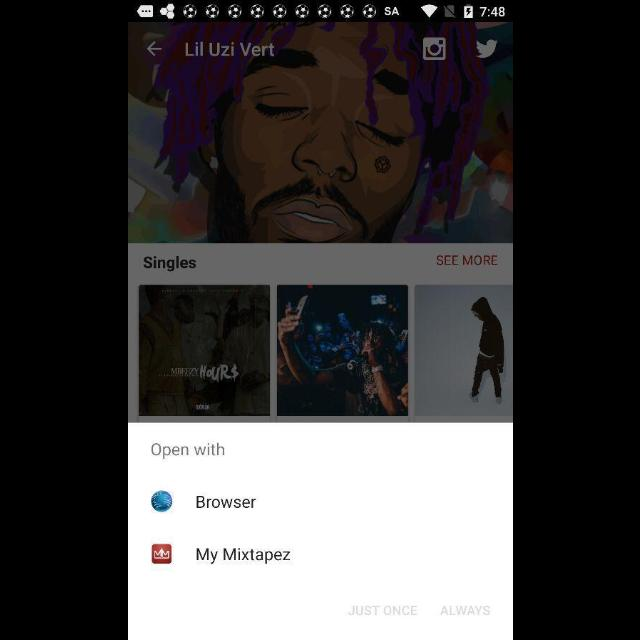icon: (475, 40, 497, 60), (147, 42, 161, 56)
image: (128, 24, 512, 244), (138, 286, 270, 416), (276, 286, 408, 416), (413, 286, 512, 416), (422, 38, 444, 62), (151, 491, 173, 513), (151, 544, 171, 564)
panel: (128, 424, 512, 640)
text: (196, 548, 290, 564), (151, 442, 225, 460), (184, 44, 274, 58), (143, 256, 195, 272), (196, 496, 254, 508), (348, 606, 417, 616), (435, 256, 497, 266), (440, 606, 490, 616)
uppertaskbar: (128, 1, 512, 23)
